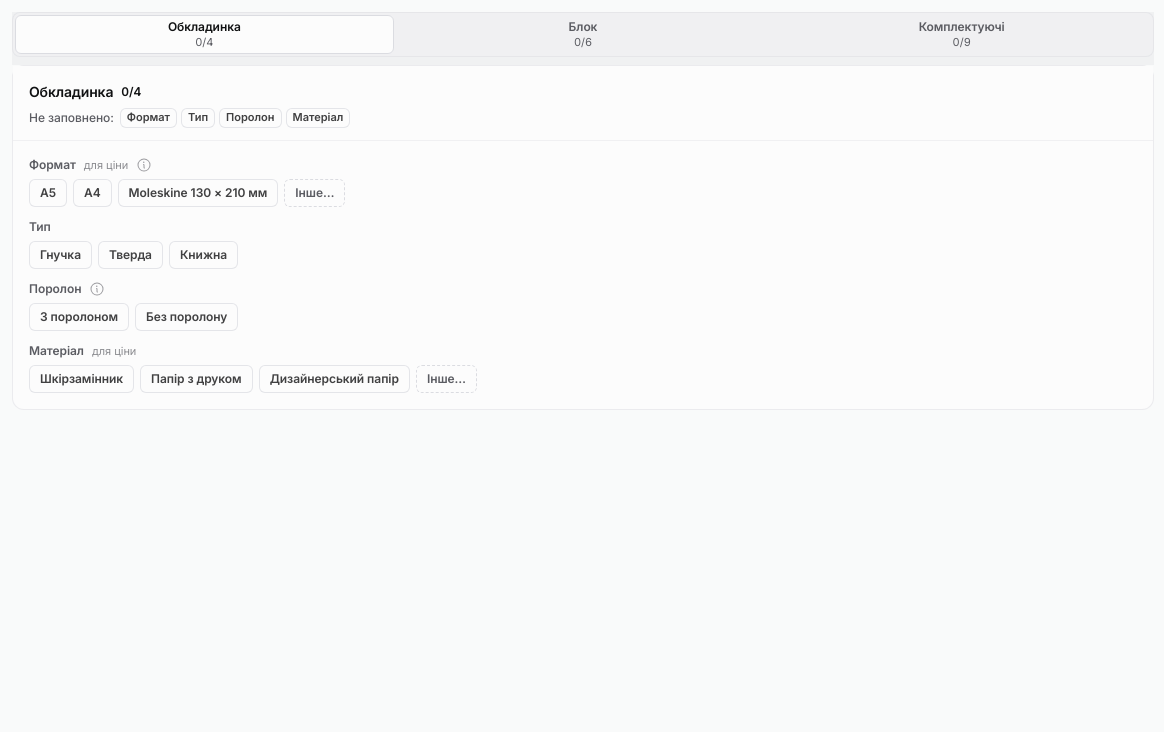
Scenario: вузький екран: частини виробу вкладками › показує лише вибрану частину, а клік по сегменту перемикає
The image size is (1164, 732).
Check: the element "Обкладинка" is shown, box [12, 65, 1154, 410]
Click the button "Блок 0/6" at (583, 34), box [394, 15, 772, 54]
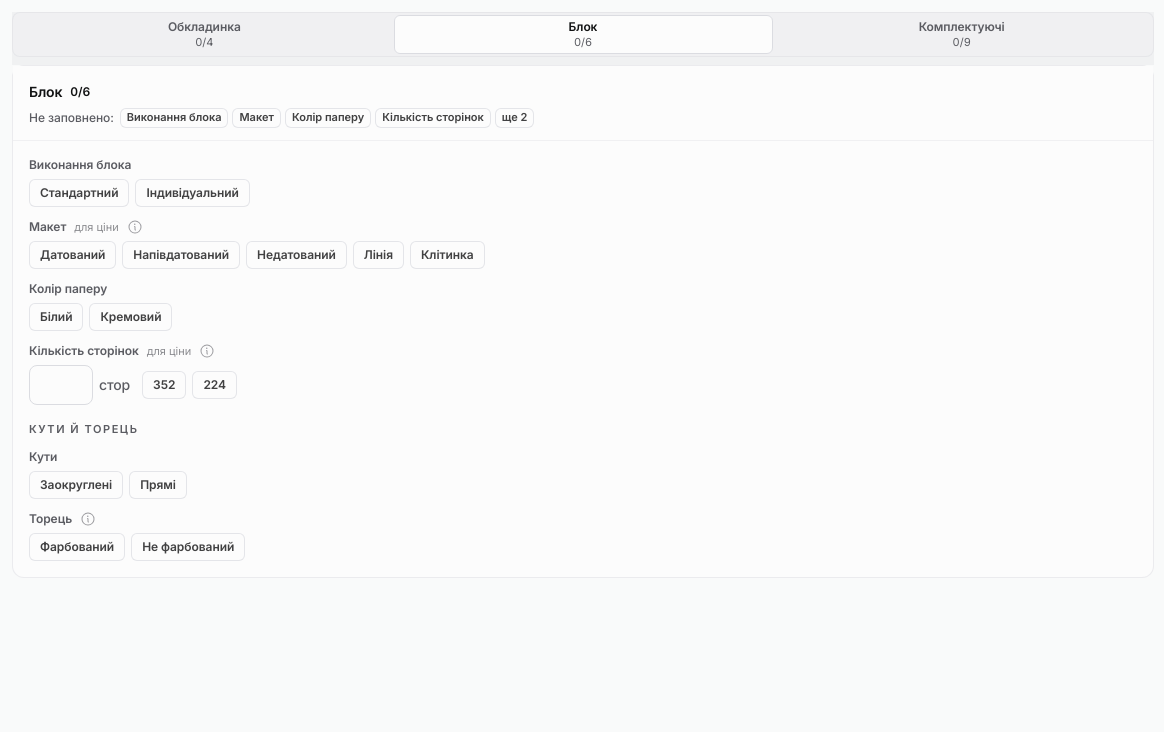
Check: the element "Блок" is shown
